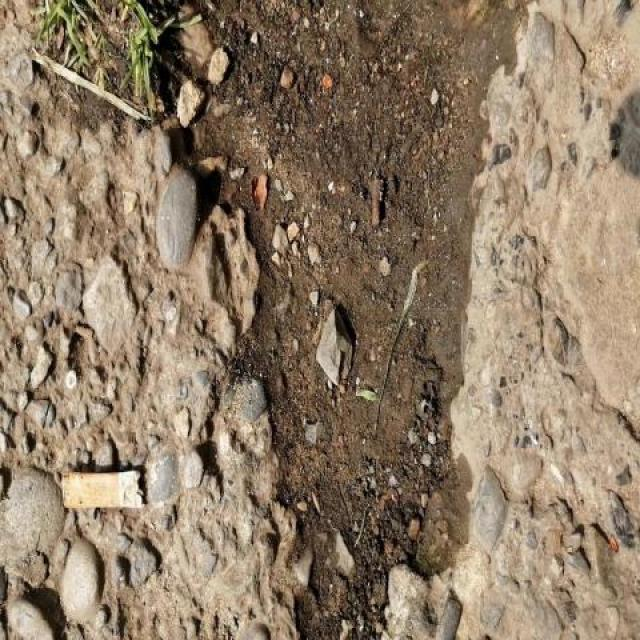non-organic waste: (59, 462, 149, 513)
